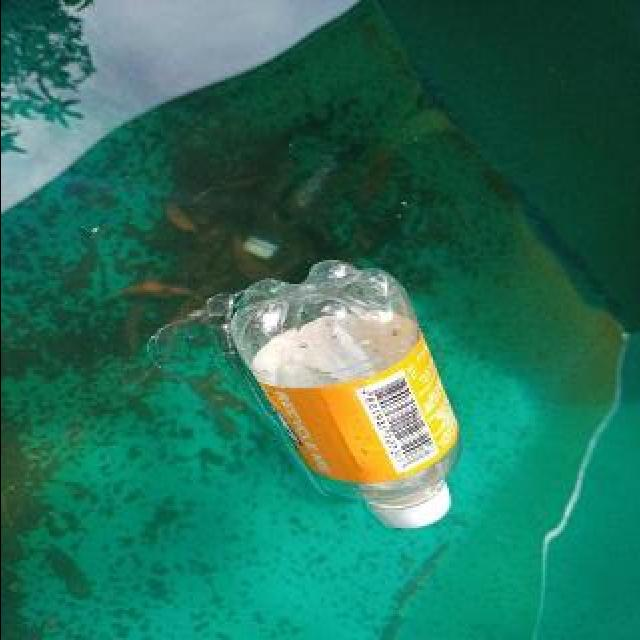Bottle: (216, 249, 464, 541)
